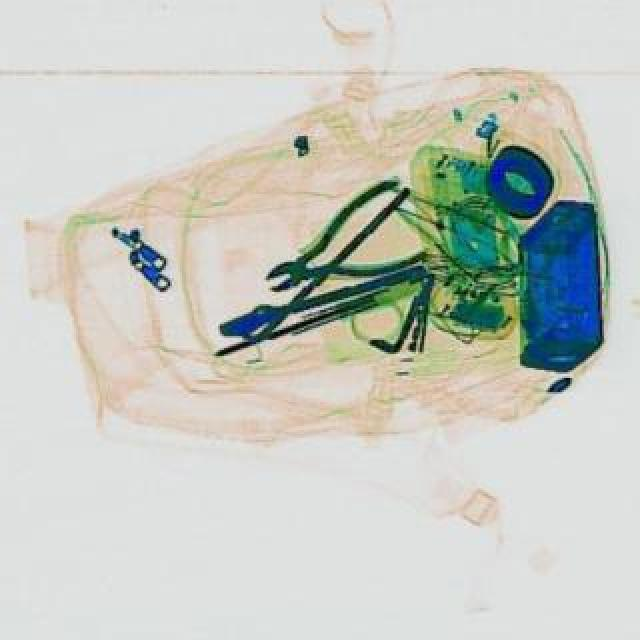wrench: (242, 172, 440, 324)
